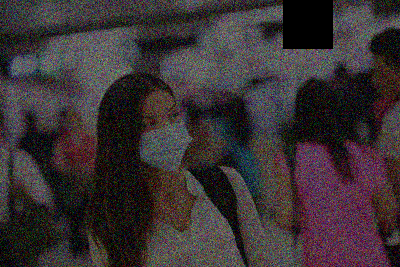with_mask: (137, 101, 195, 172)
